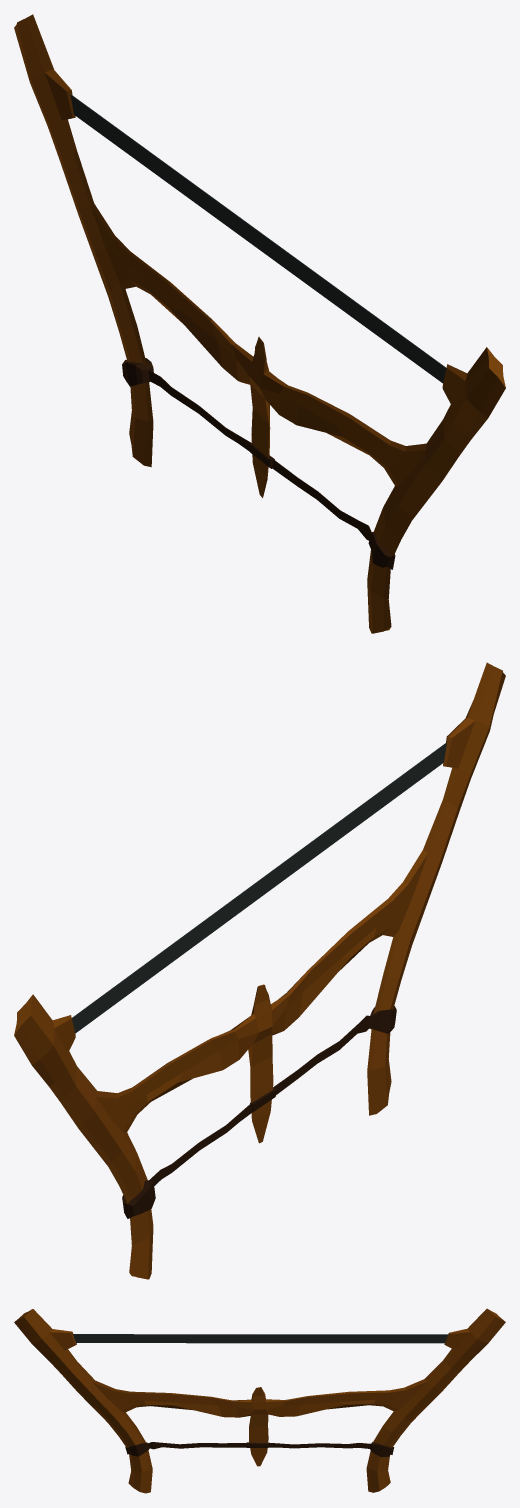
The model's file is pokaSAHA.fbx.
3 renders of one model, top to bottom at view 1: azimuth 30°, elevation 25°; view 2: azimuth 150°, elevation 25°; view 3: azimuth 270°, elevation 25°, orthographic. The views are drawn at different scales.
Visible parts, largest first — view 1: Cube.001; view 2: Cube.001; view 3: Cube.001.
Part boxes in pixels (x1,y1,x2,y2): Cube.001: (14,14,505,633); Cube.001: (14,662,505,1279); Cube.001: (14,1308,505,1493).
Size of the model in its own units: 7.67 by 116 by 280.
